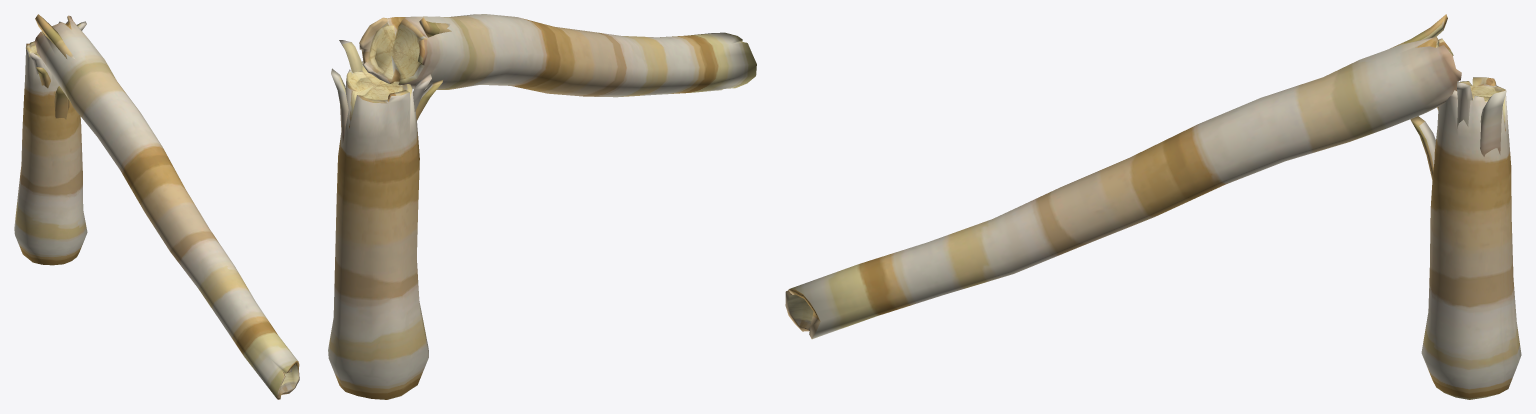
The model's file is P_PalmFallen03.obj.
3 views of the same model, side by side, from view 1: azimuth 30°, elevation 25°; view 2: azimuth 150°, elevation 25°; view 3: azimuth 270°, elevation 25° (orthographic). The views are drawn at different scales.
Bounding box in the file's own units: 0.9656 × 3.67 × 6.93.
